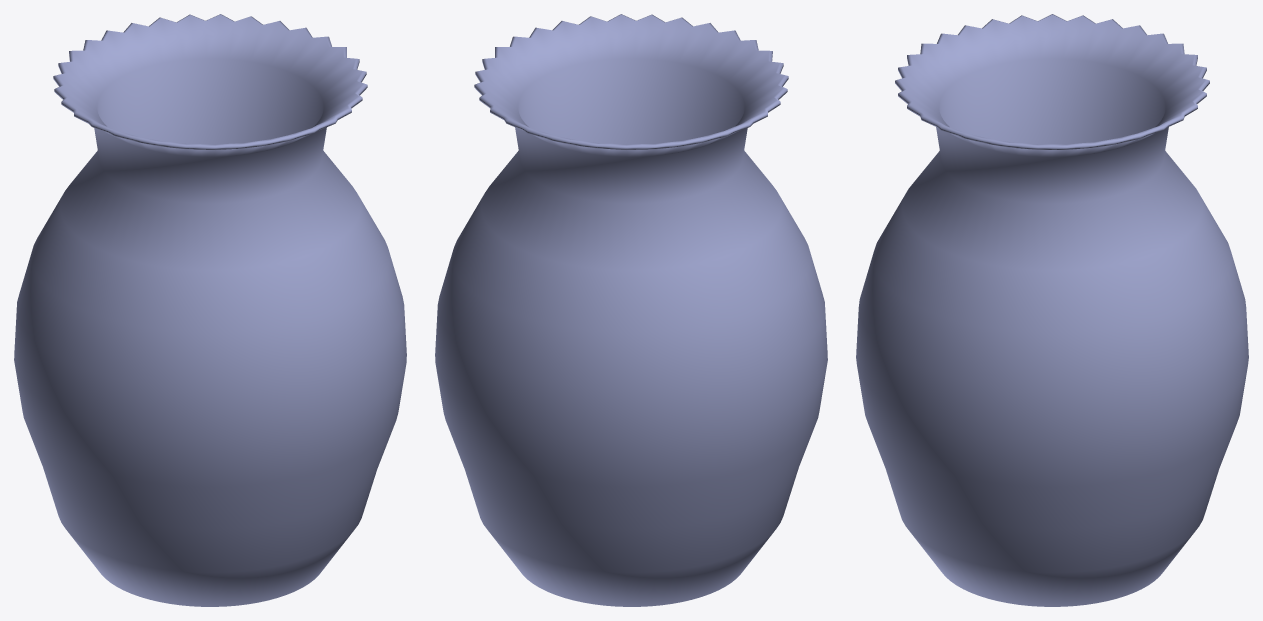
File: Vase.1.fbx
3 renders of one model, left to right at view 1: azimuth 30°, elevation 25°; view 2: azimuth 150°, elevation 25°; view 3: azimuth 270°, elevation 25°, orthographic.
Visible parts, largest first — view 1: Cylinder; view 2: Cylinder; view 3: Cylinder.
Part boxes in pixels (x1,y1,x2,y2): Cylinder: (14, 14, 406, 606); Cylinder: (435, 14, 827, 606); Cylinder: (856, 14, 1248, 606).
Bounding box in the file's own units: 158 × 212 × 158.
